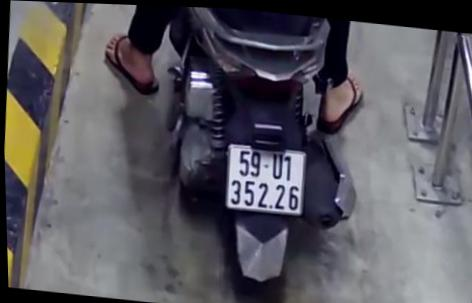LP: (224, 140, 307, 214)
